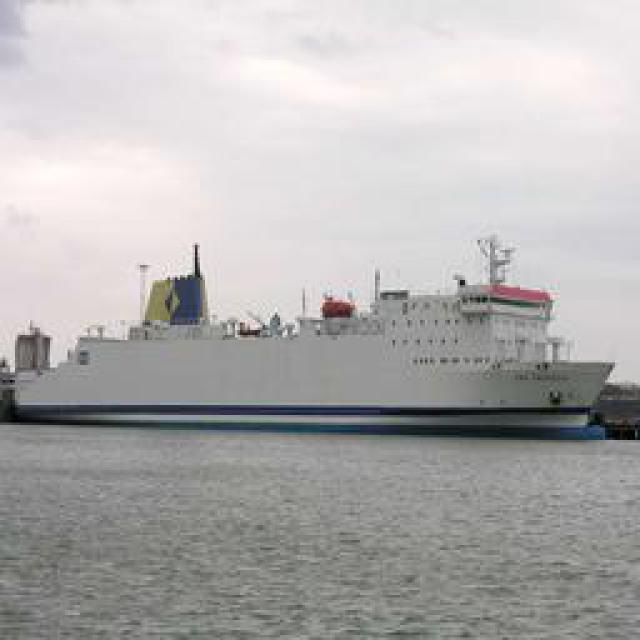Ship: (21, 242, 614, 432)
